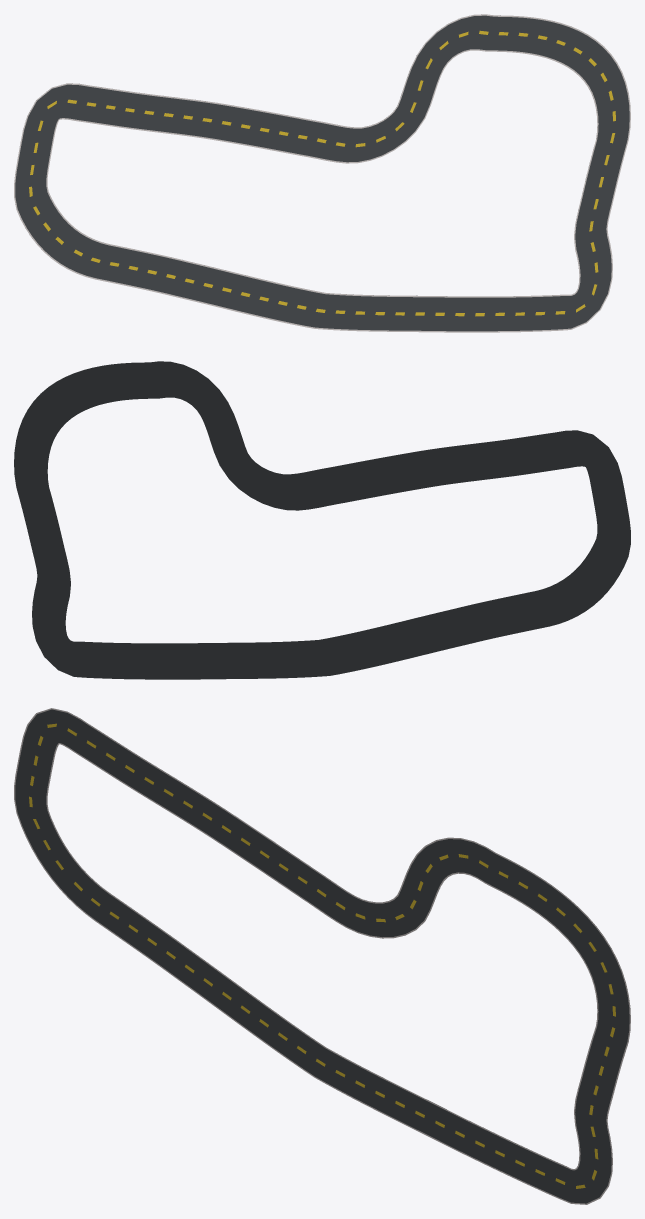
The model's file is track.obj.
The picture shows the model from 3 angles, top to bottom: view 1: azimuth 30°, elevation 25°; view 2: azimuth 150°, elevation 25°; view 3: azimuth 330°, elevation 25°; orthographic projection.
Size of the model in its own units: 19.52 by 11.17 by 0.002.
